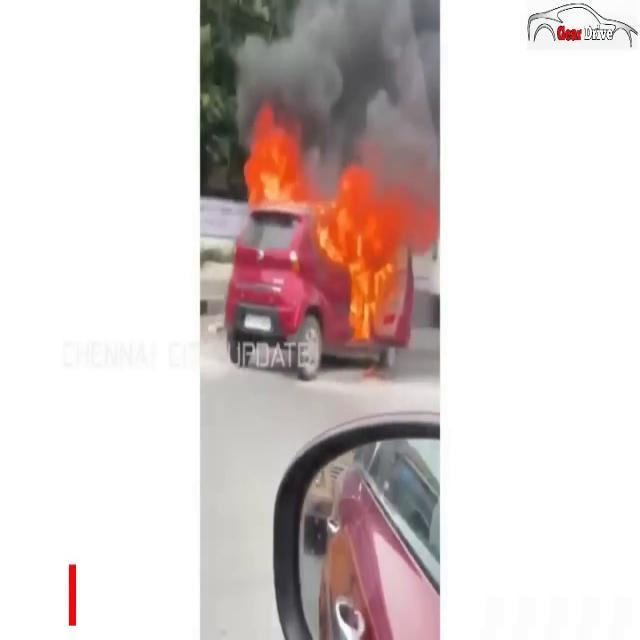Fire: (310, 161, 424, 343), (240, 108, 314, 215)
Smoke: (228, 1, 439, 163)
